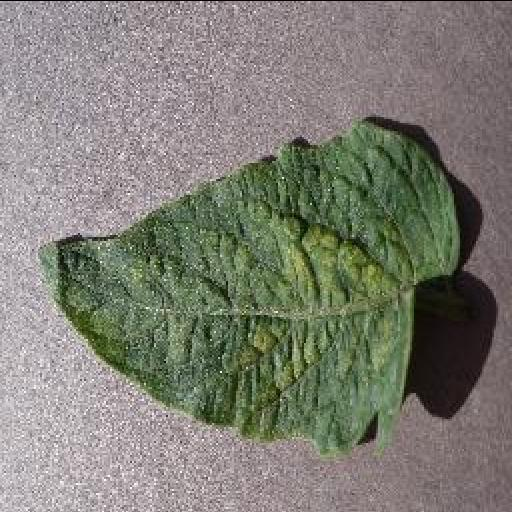disease_tomato: (35, 119, 461, 453)
